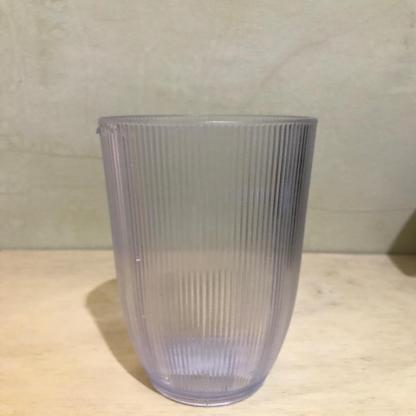glass: (98, 120, 317, 410)
